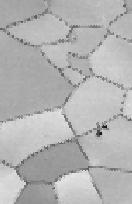good_void: (96, 129, 102, 138), (102, 124, 108, 129)
